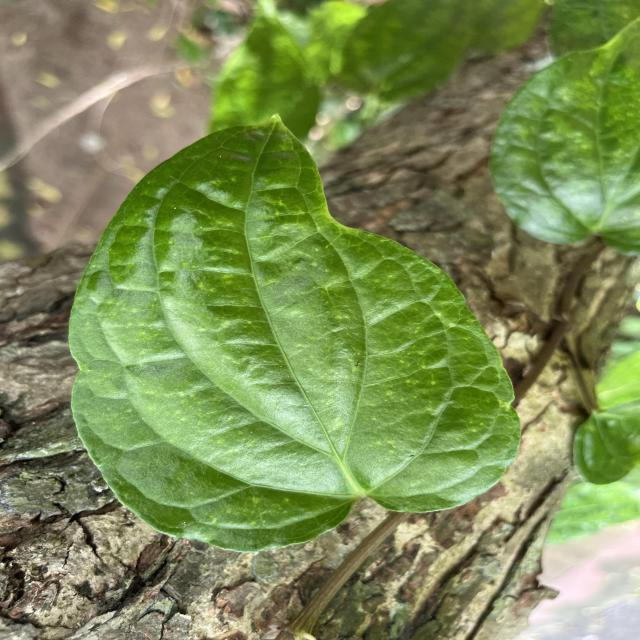Piper betle: (62, 109, 524, 554)
